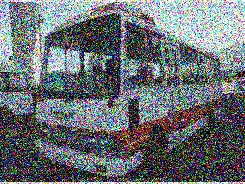bus: (34, 1, 225, 176)
